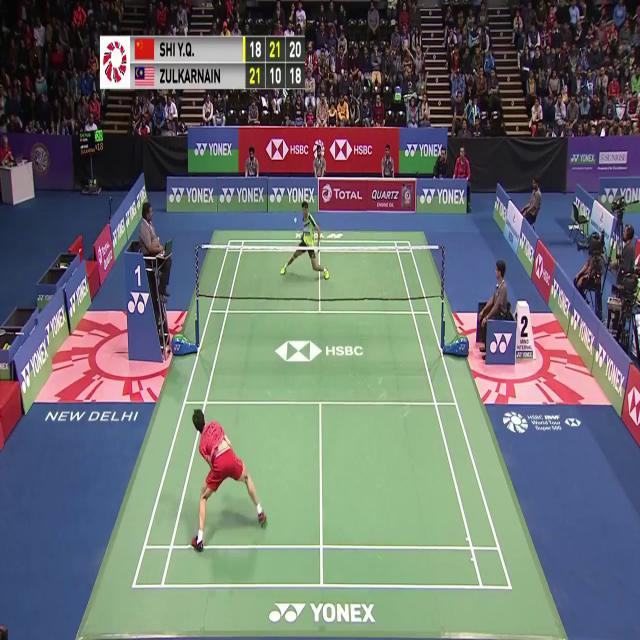Shuttlecock: (292, 213, 298, 224)
